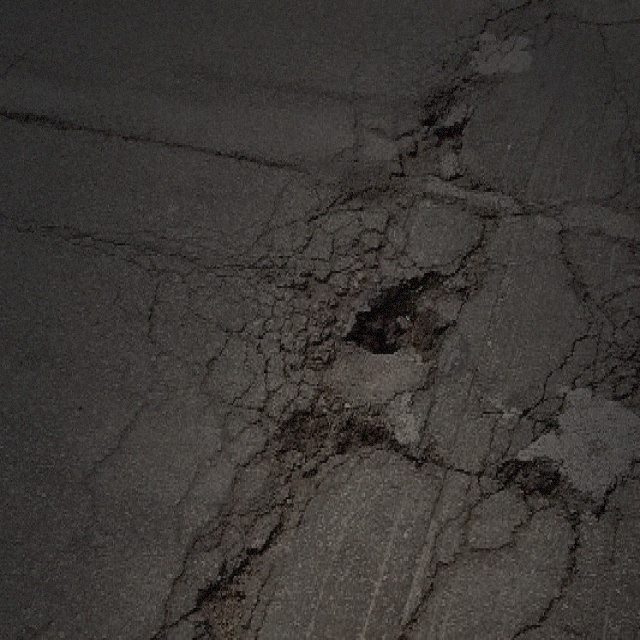pothole: (341, 266, 437, 364), (278, 399, 386, 459), (188, 561, 257, 638), (418, 81, 474, 156), (498, 454, 566, 510)
